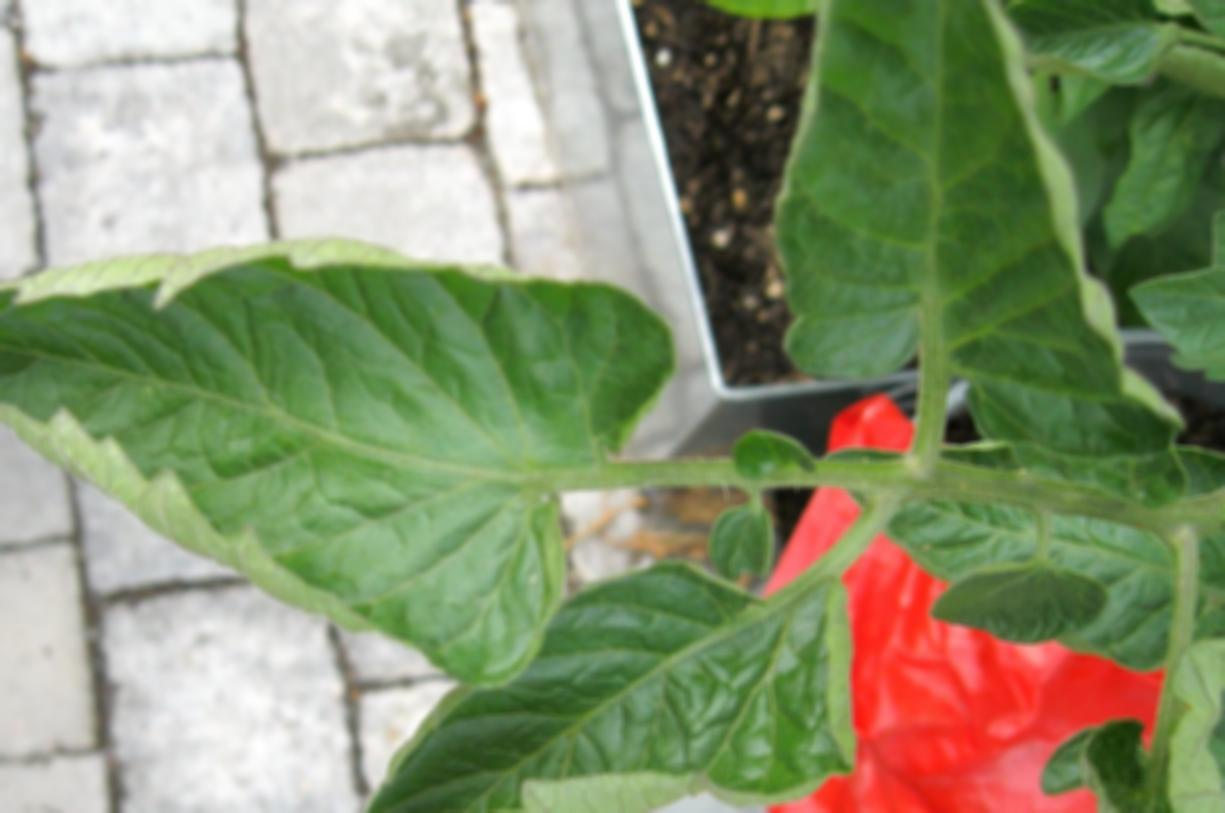Tomato leaf: (0, 252, 677, 688), (766, 0, 1185, 465), (271, 546, 877, 813)
